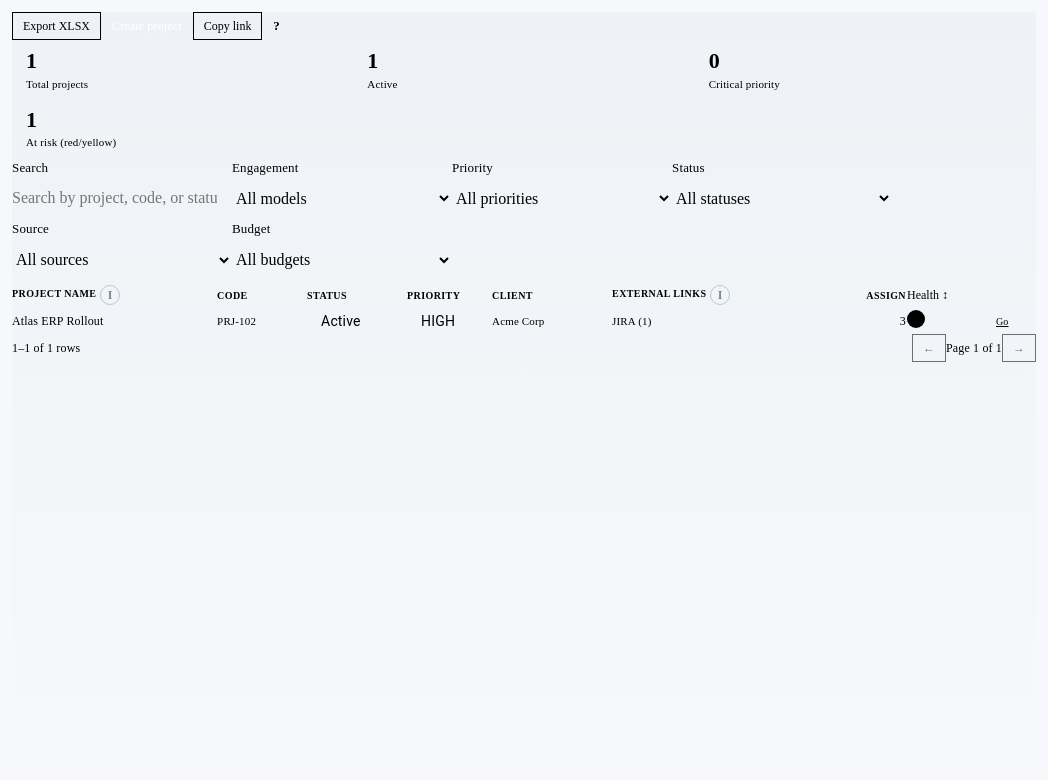
Test: SCOPED-MIN-1 — ProjectsPage dsRefresh additions › opens the inspector drawer on row click
Click the text "Atlas ERP Rollout" at x=58, y=321, box [12,314,104,328]
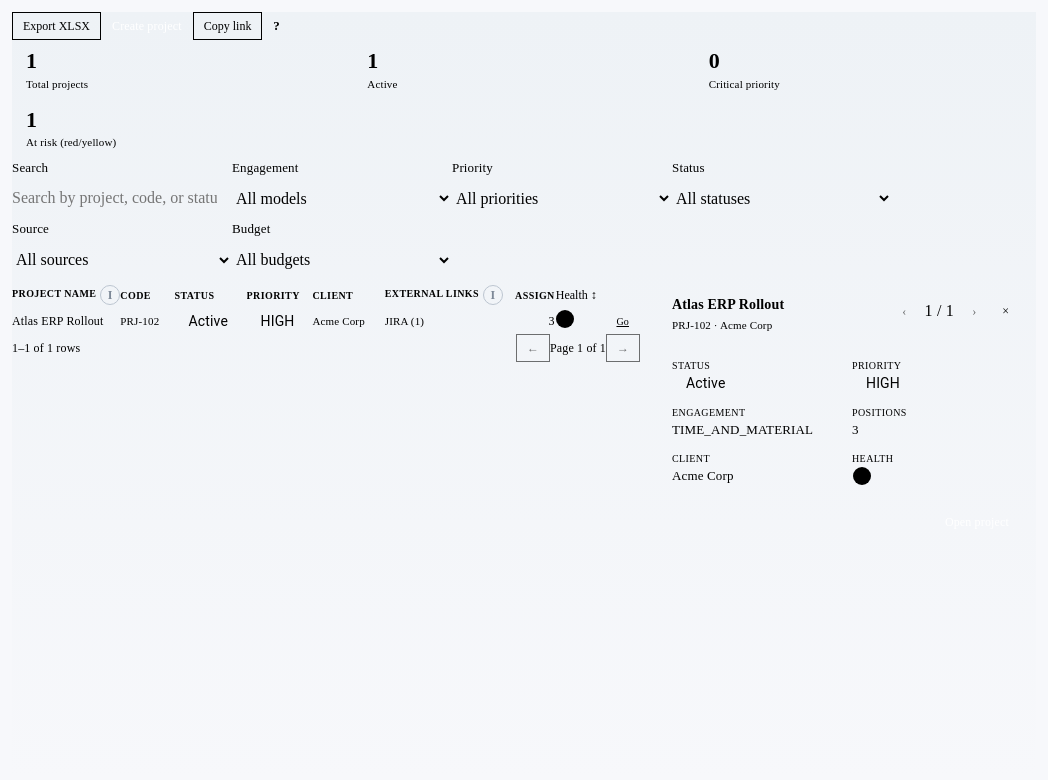
Check: the element with test id "project-directory-inspector" is shown, box [656,281,1036,552]
Check: the element with test id "project-directory-inspector" shows "Acme Corp", box [672,468,734,483]
Check: the element with test id "project-directory-inspector" shows "TIME_AND_MATERIAL", box [672,422,813,437]
